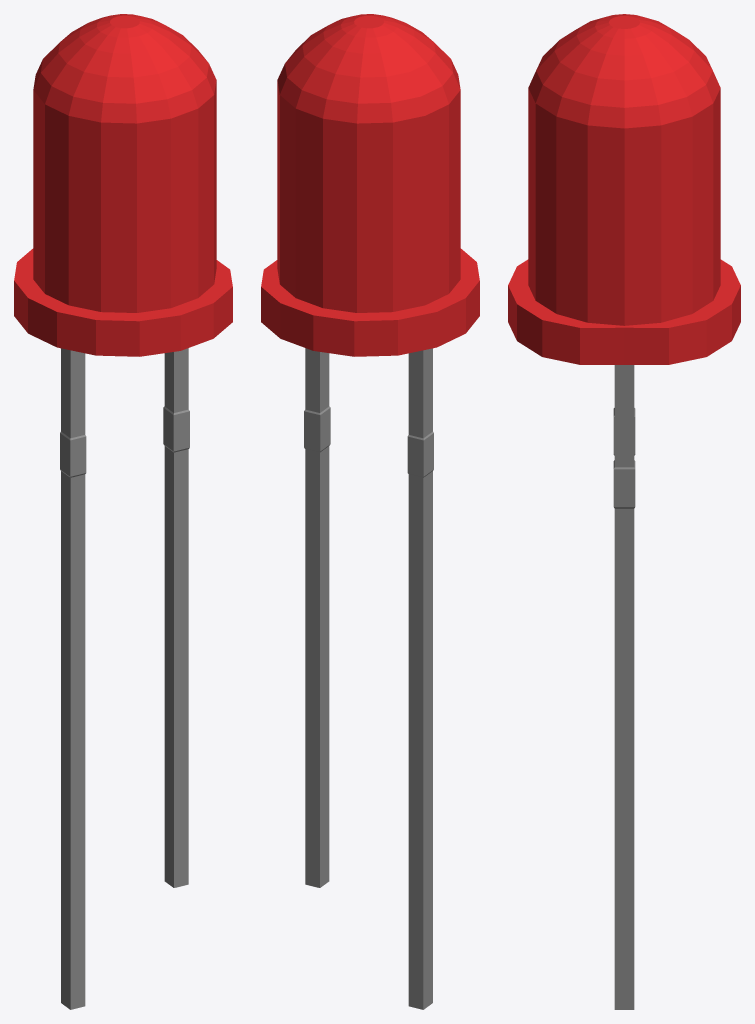
Rendered from ledDiod.fbx.
3 renders of one model, left to right at view 1: azimuth 30°, elevation 25°; view 2: azimuth 150°, elevation 25°; view 3: azimuth 270°, elevation 25°, orthographic. The views are drawn at different scales.
Parts seen in each view (by area): view 1: Cylinder; view 2: Cylinder; view 3: Cylinder.
Part boxes in pixels (x1,y1,x2,y2): Cylinder: (14,14,232,1009); Cylinder: (261,14,479,1009); Cylinder: (508,14,740,1009).
Bounding box in the file's own units: 226 × 1159 × 242.
